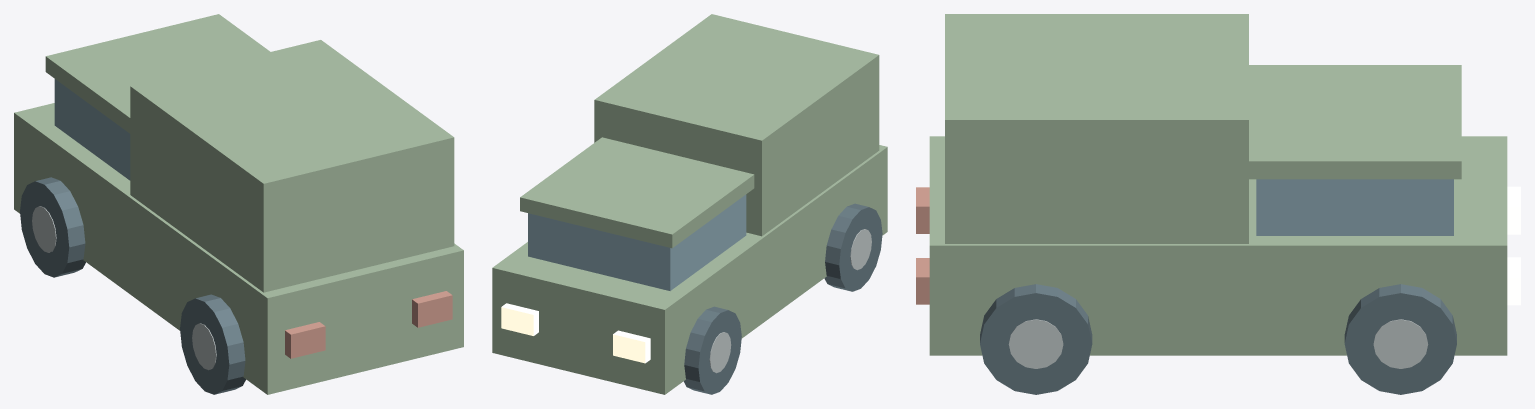
The model's file is remaster_vehicle_5.glb.
3 renders of one model, left to right at view 1: azimuth 30°, elevation 25°; view 2: azimuth 150°, elevation 25°; view 3: azimuth 270°, elevation 25°, orthographic. The views are drawn at different scales.
Parts seen in each view (by area): view 1: remaster_vehicle_5 green, remaster_vehicle_5 dark, remaster_vehicle_5 glass, remaster_vehicle_5 red, remaster_vehicle_5 metal; view 2: remaster_vehicle_5 green, remaster_vehicle_5 glass, remaster_vehicle_5 dark, remaster_vehicle_5 warm, remaster_vehicle_5 metal; view 3: remaster_vehicle_5 green, remaster_vehicle_5 dark, remaster_vehicle_5 glass, remaster_vehicle_5 metal, remaster_vehicle_5 warm, remaster_vehicle_5 red.
Part boxes in pixels (x1,y1,x2,y2): remaster_vehicle_5 green: [14, 14, 463, 394]; remaster_vehicle_5 dark: [20, 177, 245, 394]; remaster_vehicle_5 glass: [54, 79, 130, 180]; remaster_vehicle_5 red: [285, 291, 452, 358]; remaster_vehicle_5 metal: [32, 206, 216, 370]; remaster_vehicle_5 green: [492, 14, 887, 394]; remaster_vehicle_5 glass: [528, 194, 746, 290]; remaster_vehicle_5 dark: [683, 203, 882, 394]; remaster_vehicle_5 warm: [501, 303, 650, 363]; remaster_vehicle_5 metal: [709, 229, 871, 373]; remaster_vehicle_5 green: [929, 14, 1507, 355]; remaster_vehicle_5 dark: [980, 284, 1456, 394]; remaster_vehicle_5 glass: [1256, 179, 1453, 235]; remaster_vehicle_5 metal: [1008, 319, 1428, 368]; remaster_vehicle_5 warm: [1507, 186, 1520, 305]; remaster_vehicle_5 red: [916, 187, 929, 304].
Bounding box in the file's own units: 1.99 × 1.92 × 3.98.
